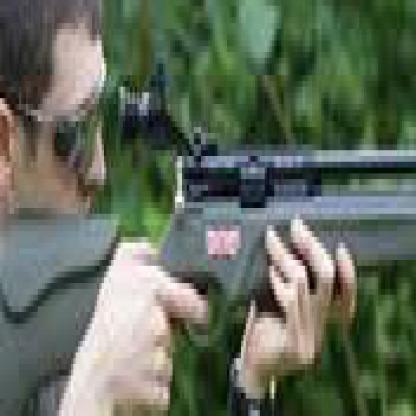gun: (208, 0, 414, 410)
